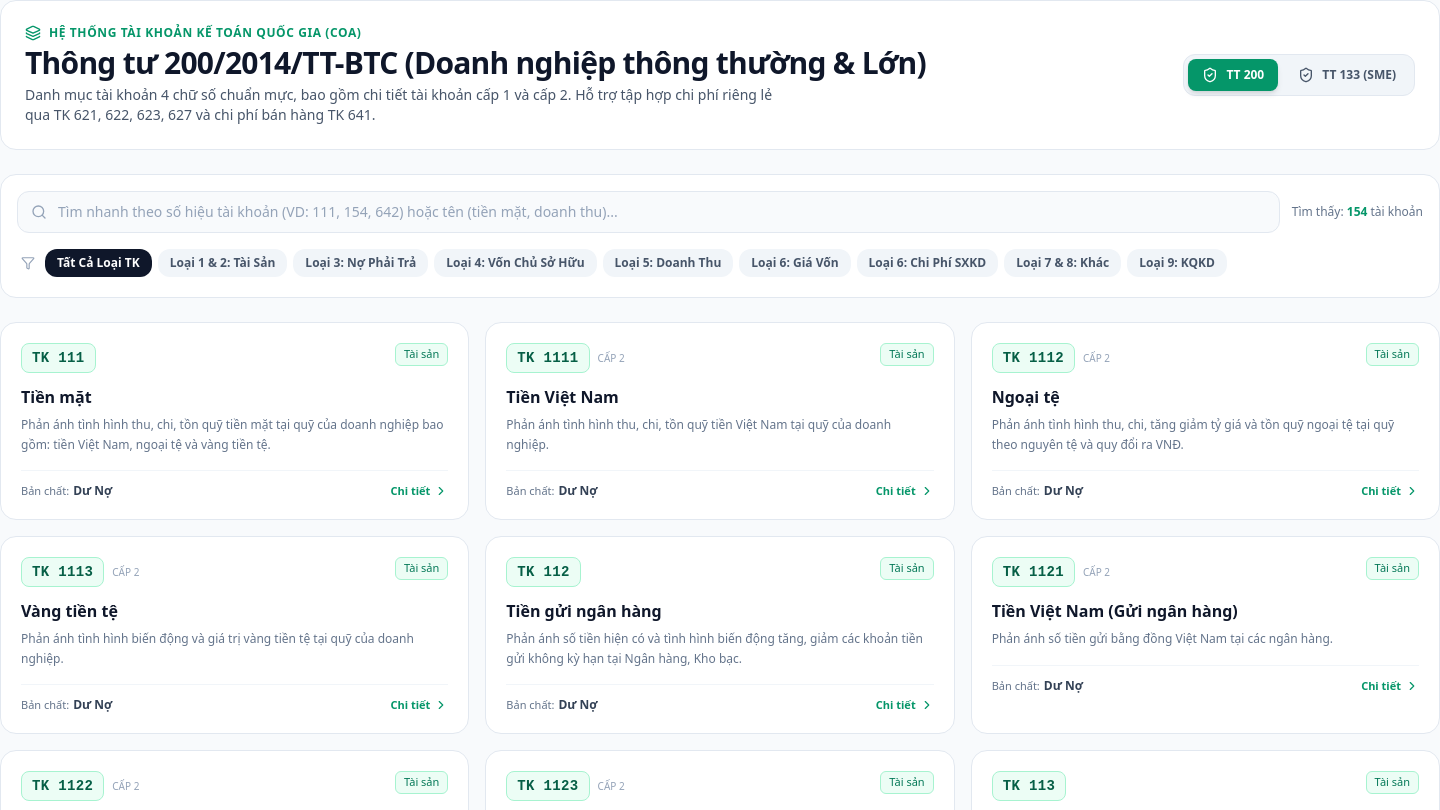
it: CHALLENGER BATTERY: Diacritic Search & Account Accessibility in CoaExplorer › 3. Edge Cases & Adversarial Search Inputs › non-existent account codes (e.g. 9999, 000, ABCXYZ) should show 0 results and friendly empty state
The width and height of the screenshot is (1440, 810).
Replace the text in the field with placeholder "Tìm nhanh theo số hiệu" with "9999": (648, 212) x1=17 y1=191 x2=1280 y2=233
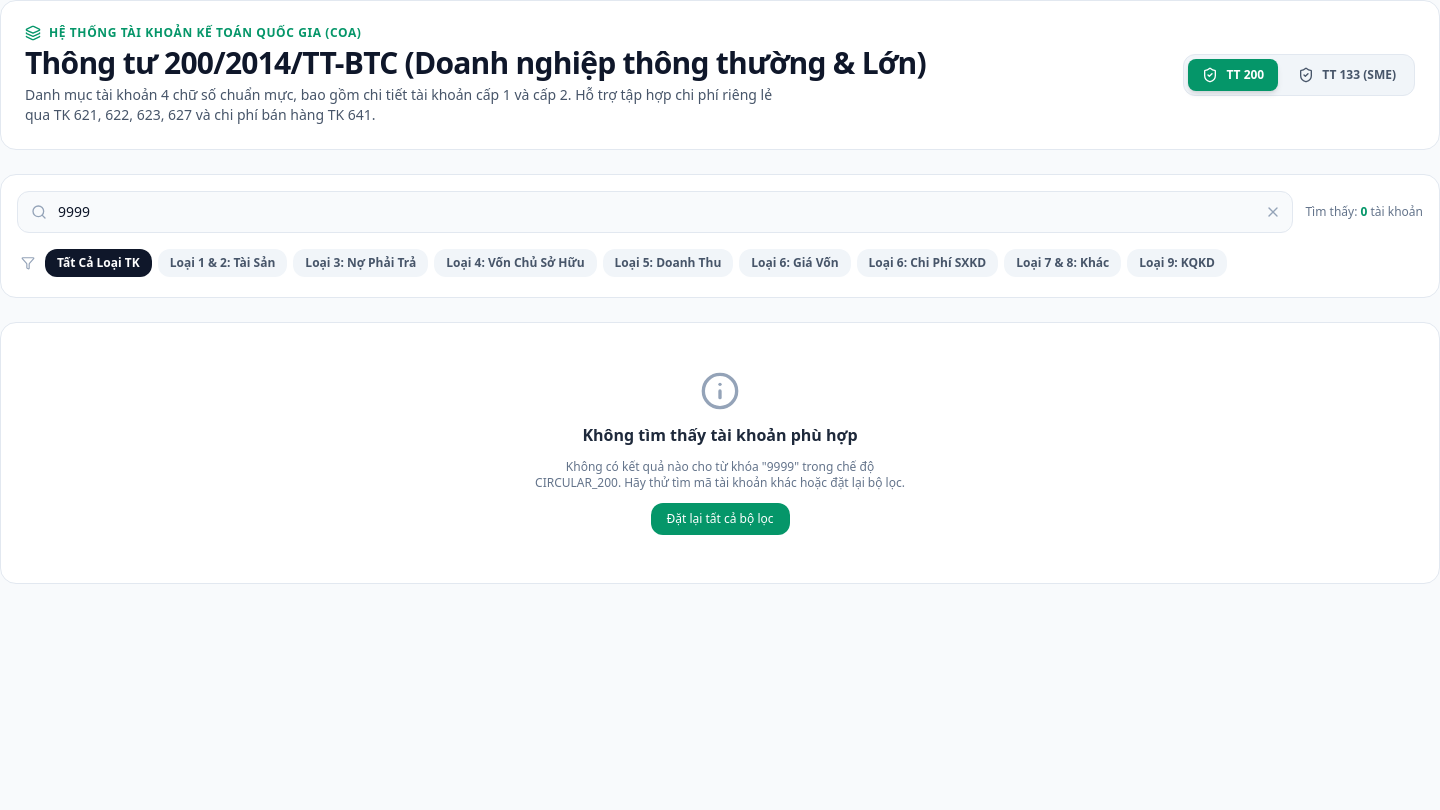
Now the text "0" is shown, box x1=1360 y1=203 x2=1367 y2=220
Now the heading "Không tìm thấy tài khoản phù hợp" is shown, box x1=582 y1=424 x2=858 y2=446
Note: Reset button should restore all accounts
Click the button "Đặt lại tất cả bộ lọc": (720, 519) x1=650 y1=503 x2=790 y2=535
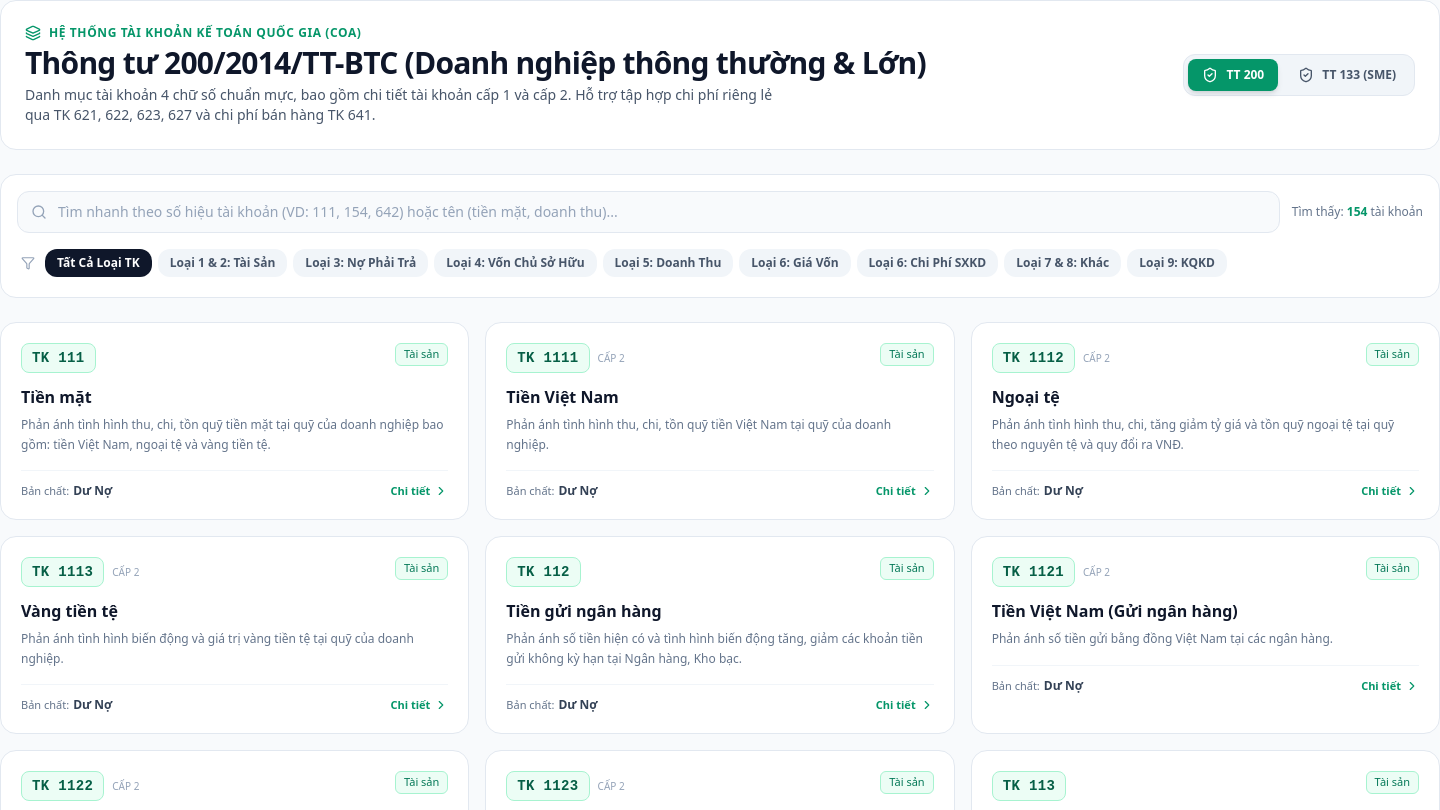
Now the text "154" is shown, box x1=1347 y1=203 x2=1367 y2=220
